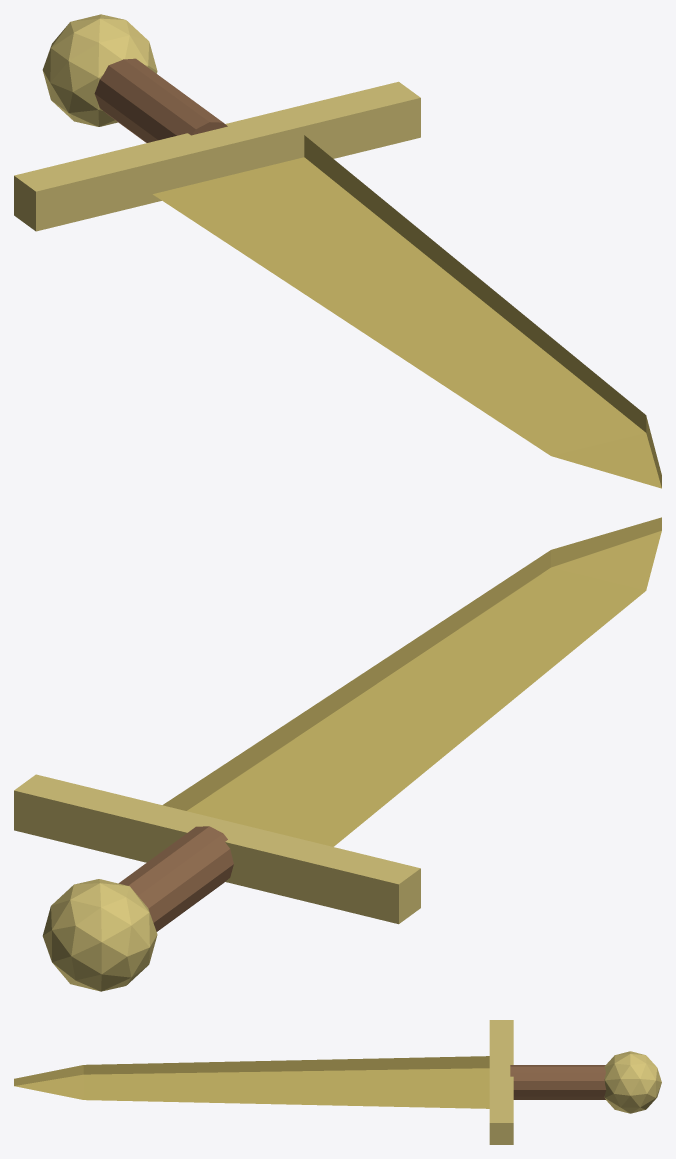
File: wide_golden_broadsword.glb
3 renders of one model, top to bottom at view 1: azimuth 30°, elevation 25°; view 2: azimuth 150°, elevation 25°; view 3: azimuth 270°, elevation 25°, orthographic. The views are drawn at different scales.
Parts seen in each view (by area): view 1: sword_0_0, sword_0_1, sword_0_3, sword_0_2; view 2: sword_0_0, sword_0_1, sword_0_3, sword_0_2; view 3: sword_0_0, sword_0_2, sword_0_1, sword_0_3.
Boxes of the visible parts, bbox=[...] form: sword_0_0: bbox=[153, 135, 661, 488]; sword_0_1: bbox=[14, 81, 420, 231]; sword_0_3: bbox=[42, 14, 157, 126]; sword_0_2: bbox=[94, 58, 227, 142]; sword_0_0: bbox=[162, 517, 661, 846]; sword_0_1: bbox=[14, 774, 420, 924]; sword_0_3: bbox=[42, 879, 157, 991]; sword_0_2: bbox=[118, 826, 233, 931]; sword_0_0: bbox=[14, 1056, 489, 1108]; sword_0_2: bbox=[510, 1065, 606, 1099]; sword_0_1: bbox=[489, 1020, 513, 1144]; sword_0_3: bbox=[604, 1051, 661, 1113].
Size of the model in its own units: 1.82 by 0.4705 by 4.83.
